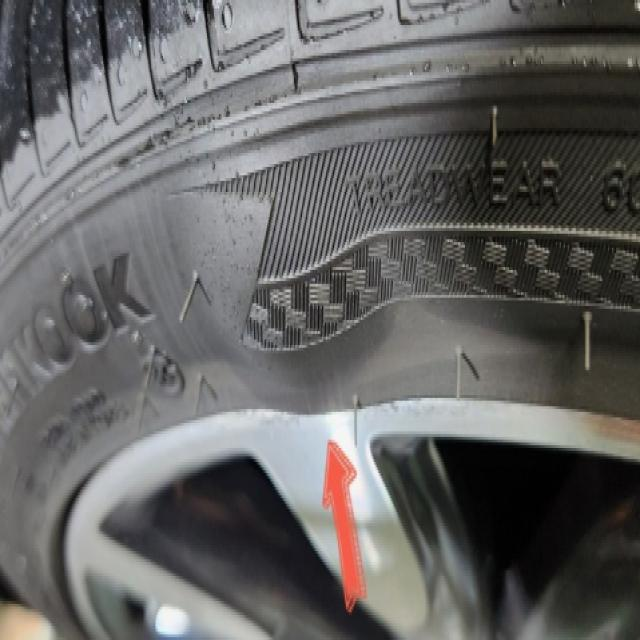Bulge: (170, 103, 414, 393)
